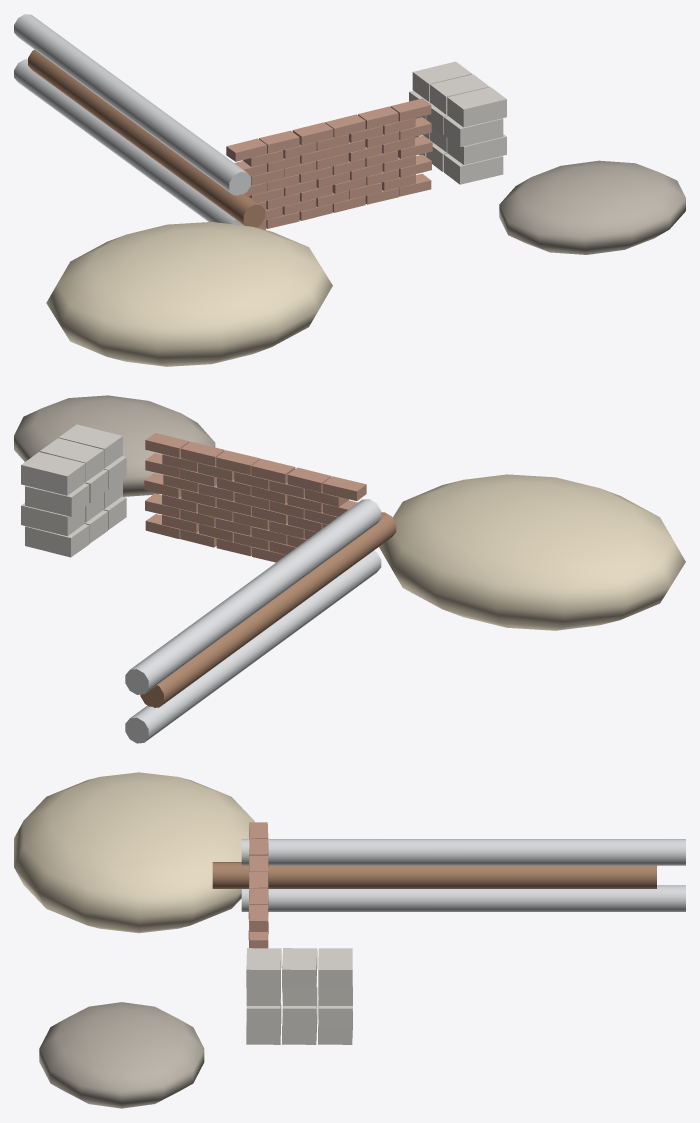
Rendered from material-stack.glb.
3 views of the same model, one above another, from view 1: azimuth 30°, elevation 25°; view 2: azimuth 150°, elevation 25°; view 3: azimuth 270°, elevation 25° (orthographic). The views are drawn at different scales.
Parts seen in each view (by area): view 1: sand, brick, gravel, metal, concrete, rust; view 2: sand, brick, metal, concrete, gravel, rust; view 3: sand, metal, gravel, rust, concrete, brick.
Part boxes in pixels (x1=…): sand: x1=46, y1=222, x2=332, y2=366; brick: x1=226, y1=98, x2=432, y2=229; gravel: x1=499, y1=160, x2=685, y2=254; metal: x1=14, y1=14, x2=251, y2=225; concrete: x1=409, y1=61, x2=506, y2=184; rust: x1=28, y1=49, x2=265, y2=227; sand: x1=379, y1=474, x2=685, y2=630; brick: x1=144, y1=433, x2=366, y2=562; metal: x1=125, y1=499, x2=381, y2=743; concrete: x1=21, y1=424, x2=126, y2=557; gravel: x1=14, y1=395, x2=215, y2=496; rust: x1=140, y1=512, x2=396, y2=707; sand: x1=14, y1=772, x2=254, y2=933; metal: x1=241, y1=839, x2=685, y2=911; gravel: x1=39, y1=1002, x2=204, y2=1108; rust: x1=212, y1=862, x2=656, y2=888; concrete: x1=246, y1=948, x2=352, y2=1044; brick: x1=248, y1=822, x2=268, y2=948.
Bounding box in the file's own units: 8.48 × 1.67 × 7.86.
